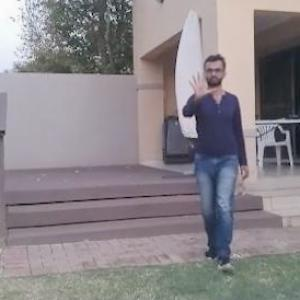follow_hand: (184, 68, 219, 104)
